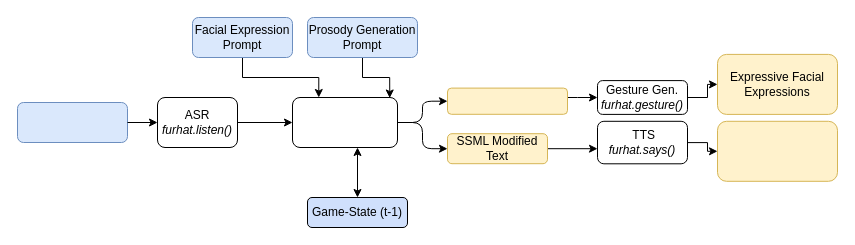
The diagram is 855 pixels wide and 245 high, and some of its shapes have lost their labels. The shapes that lost their labels are listed below. From the top down, each one's centre as x and y in pixels, then its label:
pixel 507 100: Facial Expressions
pixel 72 122: Audio Input
pixel 345 122: LLM GPT-4.0-mini
pixel 777 150: Expressive Speech
